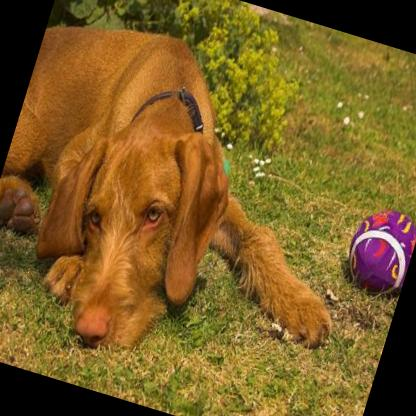vizsla: (0, 0, 398, 409)
